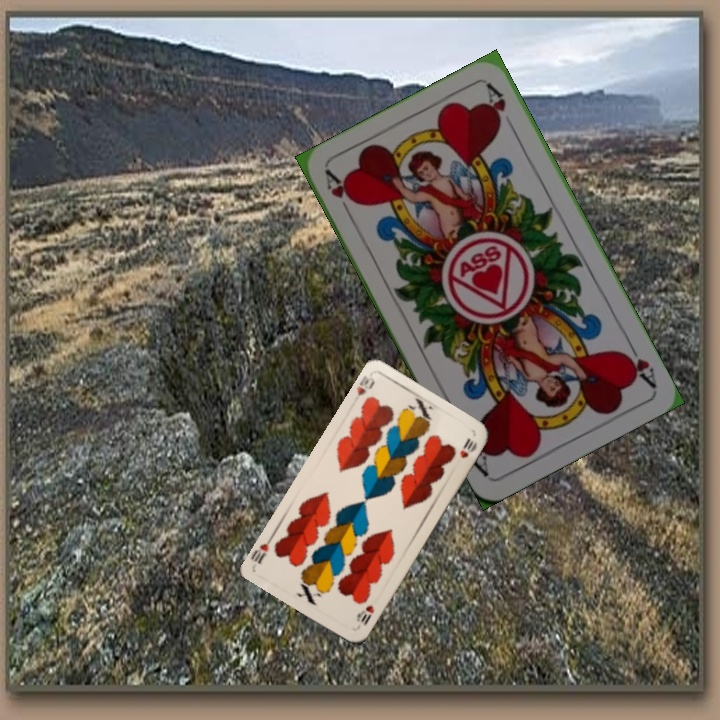H10: (352, 601, 377, 628), (353, 372, 378, 399)
HA: (617, 336, 659, 390), (321, 166, 359, 222)
